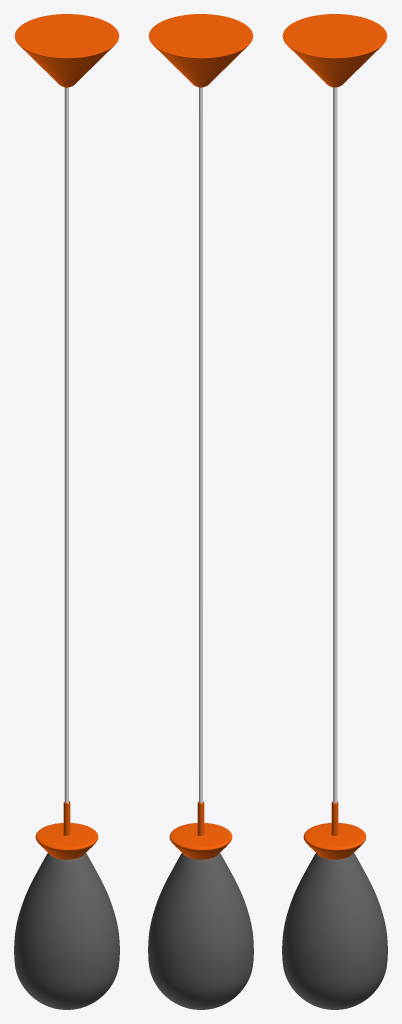
The model's file is 805118_Colore_Lightstar.fbx.
3 renders of one model, left to right at view 1: azimuth 90°, elevation 25°; view 2: azimuth 150°, elevation 25°; view 3: azimuth 270°, elevation 25°, orthographic.
Parts seen in each view (by area): view 1: 805118_Colore_Lightstar, Cylinder002; view 2: 805118_Colore_Lightstar, Cylinder002; view 3: 805118_Colore_Lightstar, Cylinder002.
Boxes of the visible parts, left/top/right/bottom form: 805118_Colore_Lightstar: left=14, top=14, right=119, bottom=1009; Cylinder002: left=64, top=87, right=68, bottom=803; 805118_Colore_Lightstar: left=148, top=14, right=253, bottom=1009; Cylinder002: left=199, top=87, right=202, bottom=803; 805118_Colore_Lightstar: left=282, top=14, right=387, bottom=1009; Cylinder002: left=333, top=87, right=337, bottom=803.
Bounding box in the file's own units: 99.04 × 1000 × 99.04.
